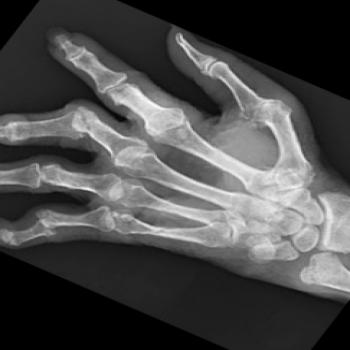Fracture: (64, 104, 94, 142), (31, 207, 54, 245)
